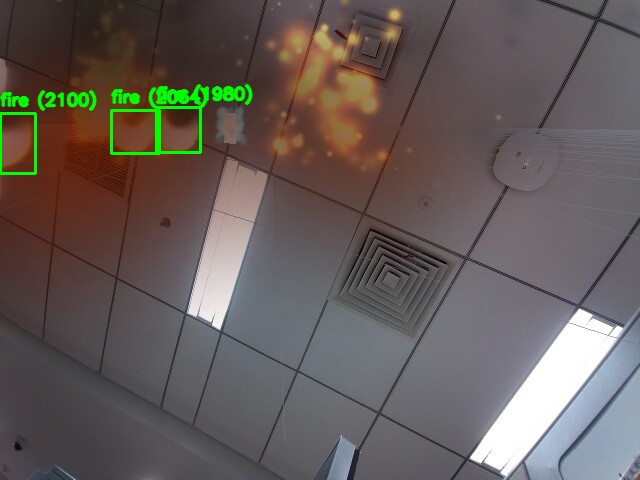fire: (0, 113, 35, 173), (111, 110, 159, 153), (156, 107, 200, 152)
